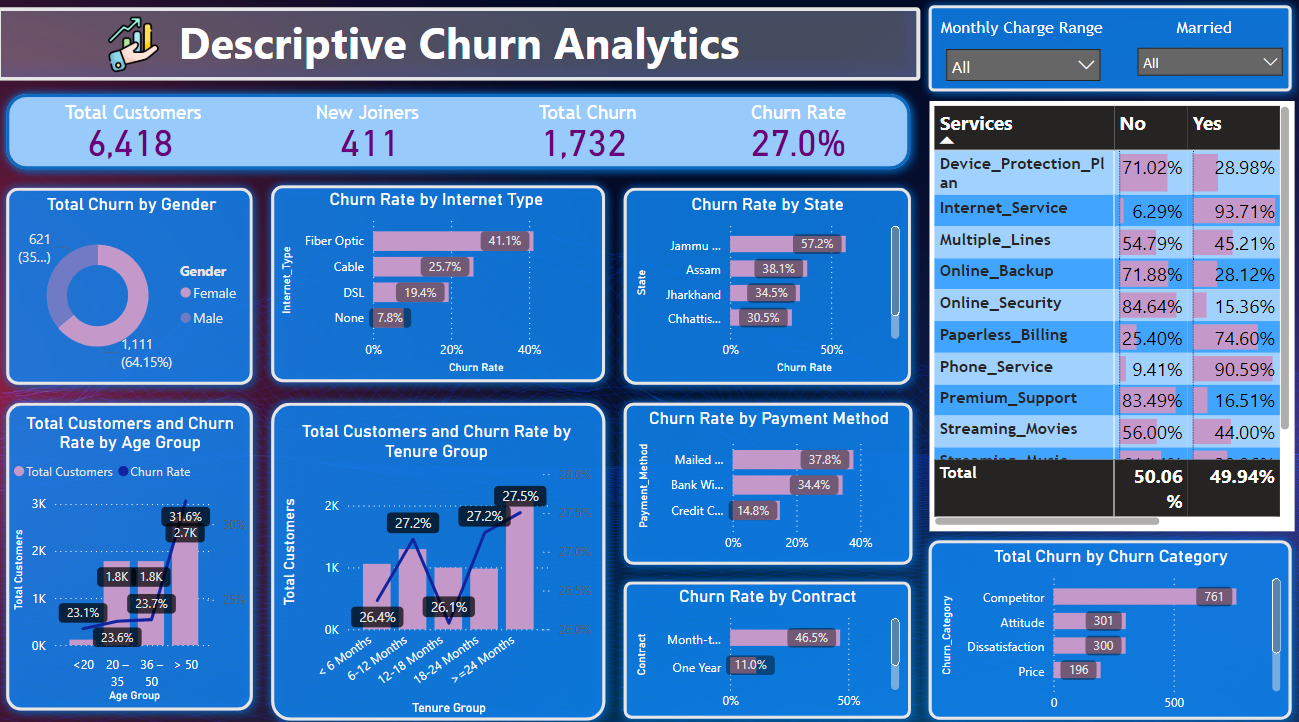

What the dashboard file says about the page in this screenshot:
{"tool":"powerbi","page":{"name":"Descriptive","canvas":[1280,720],"ordinal":0},"visuals":[{"type":"pivotTable","fields":{"Rows":["prod_Services.Services"],"Columns":["prod_Services.Status"],"Values":["Sum(prod_Services.Customer Churn)"]},"box":[915.3,103.1,358.3,422.1],"z":0},{"type":"textbox","box":[0,11,906.8,72.4],"z":1000},{"type":"shape","box":[0,87.1,905.5,92],"z":2000},{"type":"card","fields":{"Values":["tbl_Measures.Total Customers"]},"box":[51.5,115.3,158.3,52.8],"z":3000},{"type":"card","fields":{"Values":["tbl_Measures.New Joiners"]},"box":[260.1,115.3,212.3,52.8],"z":4000},{"type":"card","fields":{"Values":["tbl_Measures.Churn Rate"]},"box":[679.8,115.3,213.5,52.8],"z":5000},{"type":"card","fields":{"Values":["tbl_Measures.Total Churn"]},"box":[472.4,115.3,207.4,52.8],"z":6000},{"type":"textbox","box":[0,98.2,906.8,31.9],"z":7000},{"type":"shape","box":[0,178.6,260,211.4],"z":8000},{"type":"donutChart","fields":{"Category":["prod_Churn.Gender"],"Y":["tbl_Measures.Total Churn"]},"box":[13.5,193.9,236.8,181.6],"z":9000},{"type":"shape","box":[260,177.1,345.7,211.4],"z":10000},{"type":"shape","box":[0,390.2,260.1,320.2],"z":11000},{"type":"shape","box":[260.1,390.2,346,330.1],"z":12000},{"type":"shape","box":[605.7,178.6,300,211.4],"z":13000},{"type":"shape","box":[605.7,390,301.4,177.1],"z":14000},{"type":"shape","box":[605.7,565.7,300,152.9],"z":15000},{"type":"shape","box":[905.7,525.7,374.3,194.3],"z":16000},{"type":"clusteredBarChart","title":"Churn Rate by Internet Type","fields":{"Category":["prod_Churn.Internet_Type"],"Y":["tbl_Measures.Churn Rate"]},"box":[273.6,189,315.3,186.5],"z":17000},{"type":"clusteredBarChart","fields":{"Category":["prod_Churn.State"],"Y":["tbl_Measures.Churn Rate"]},"box":[622.1,193.9,268.7,181.6],"z":18000},{"type":"lineStackedColumnComboChart","fields":{"Category":["mapping_AgeGrp.Age Group"],"Y":["tbl_Measures.Total Customers"],"Y2":["tbl_Measures.Churn Rate"]},"box":[11,408.6,239.3,289.6],"z":19000},{"type":"lineStackedColumnComboChart","fields":{"Category":["mapping_TenureGrp.Tenure Group"],"Y":["tbl_Measures.Total Customers"],"Y2":["tbl_Measures.Churn Rate"]},"box":[273.6,417.2,315.3,293.3],"z":20000},{"type":"clusteredBarChart","title":"Total Churn by Churn Category","fields":{"Category":["prod_Churn.Churn_Category"],"Y":["tbl_Measures.Total Churn"]},"box":[921.5,539.9,343.6,171.8],"z":21000},{"type":"clusteredBarChart","title":"Churn Rate by Payment Method","fields":{"Category":["prod_Churn.Payment_Method"],"Y":["tbl_Measures.Churn Rate"]},"box":[624.5,403.7,266.3,150.9],"z":22000},{"type":"clusteredBarChart","fields":{"Y":["tbl_Measures.Churn Rate"],"Category":["prod_Churn.Contract"]},"box":[622.1,579.1,268.7,131.3],"z":23000},{"type":"shape","box":[905.7,0,374.3,102.9],"z":24000},{"type":"slicer","fields":{"Values":["prod_Services.Monthly Charge Status"]},"box":[921.5,41.7,171.8,47.9],"z":25000},{"type":"slicer","fields":{"Values":["prod_Services.Married"]},"box":[1109.2,40.5,163.2,52.8],"z":26000},{"type":"textbox","box":[921.5,16,343.6,35.6],"z":27000},{"type":"image","box":[101.8,14.7,63.8,65],"z":28000}]}

Visuals, with their boxes in screenshot pixels (x1, y1, x2, y2), scaled from the page's 1280x720 canvas onto the 1299x722 screenshot:
pivotTable - prod_Services.Services x prod_Services.Status: 929,103,1293,527
textbox: 0,11,920,84
shape: 0,87,919,180
card - tbl_Measures.Total Customers: 52,116,213,169
card - tbl_Measures.New Joiners: 264,116,479,169
card - tbl_Measures.Churn Rate: 690,116,907,169
card - tbl_Measures.Total Churn: 479,116,690,169
textbox: 0,98,920,130
shape: 0,179,264,391
donutChart - prod_Churn.Gender x tbl_Measures.Total Churn: 14,194,254,377
shape: 264,178,615,390
shape: 0,391,264,712
shape: 264,391,615,721
shape: 615,179,919,391
shape: 615,391,921,569
shape: 615,567,919,721
shape: 919,527,1298,721
"Churn Rate by Internet Type" clusteredBarChart: 278,190,598,377
clusteredBarChart - prod_Churn.State x tbl_Measures.Churn Rate: 631,194,904,377
lineStackedColumnComboChart - mapping_AgeGrp.Age Group x tbl_Measures.Total Customers: 11,410,254,700
lineStackedColumnComboChart - mapping_TenureGrp.Tenure Group x tbl_Measures.Total Customers: 278,418,598,712
"Total Churn by Churn Category" clusteredBarChart: 935,541,1284,714
"Churn Rate by Payment Method" clusteredBarChart: 634,405,904,556
clusteredBarChart - tbl_Measures.Churn Rate x prod_Churn.Contract: 631,581,904,712
shape: 919,0,1298,103
slicer - prod_Services.Monthly Charge Status: 935,42,1110,90
slicer - prod_Services.Married: 1126,41,1291,94
textbox: 935,16,1284,52
image: 103,15,168,80
